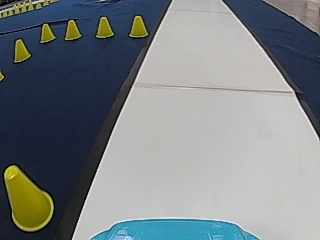cone: (4, 165, 53, 228), (128, 15, 148, 38), (95, 16, 114, 38), (13, 39, 30, 62), (64, 19, 81, 40), (39, 23, 55, 43)
